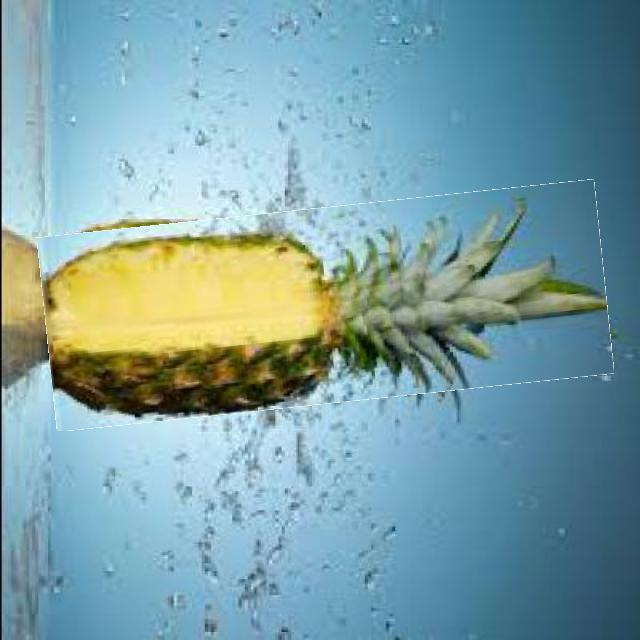Pineapple: (41, 194, 610, 417)
